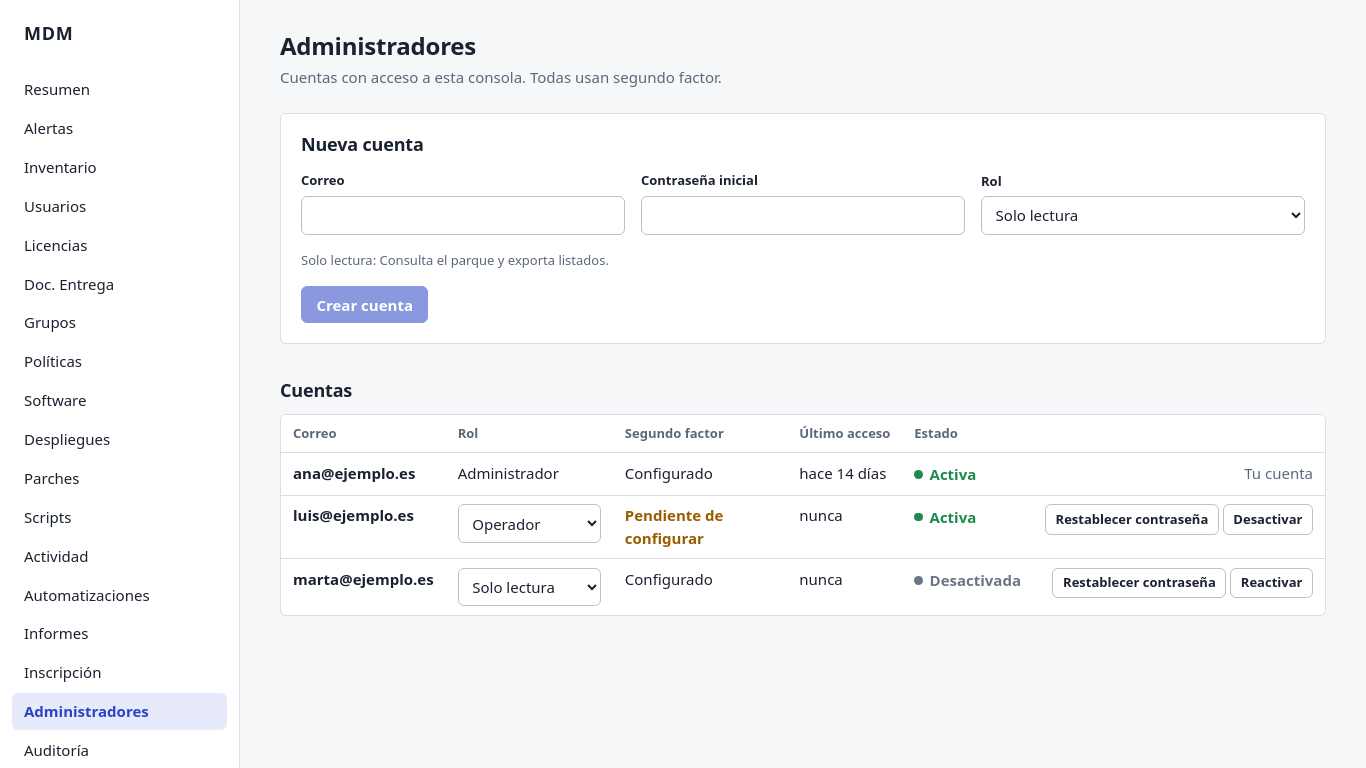
Test: Administradores › restablece la contraseña de otra cuenta
Step 1. Click the button with aria-label "Restablecer la contraseña de luis@ejemplo.es" → (1132, 520), box x1=1045 y1=504 x2=1219 y2=535
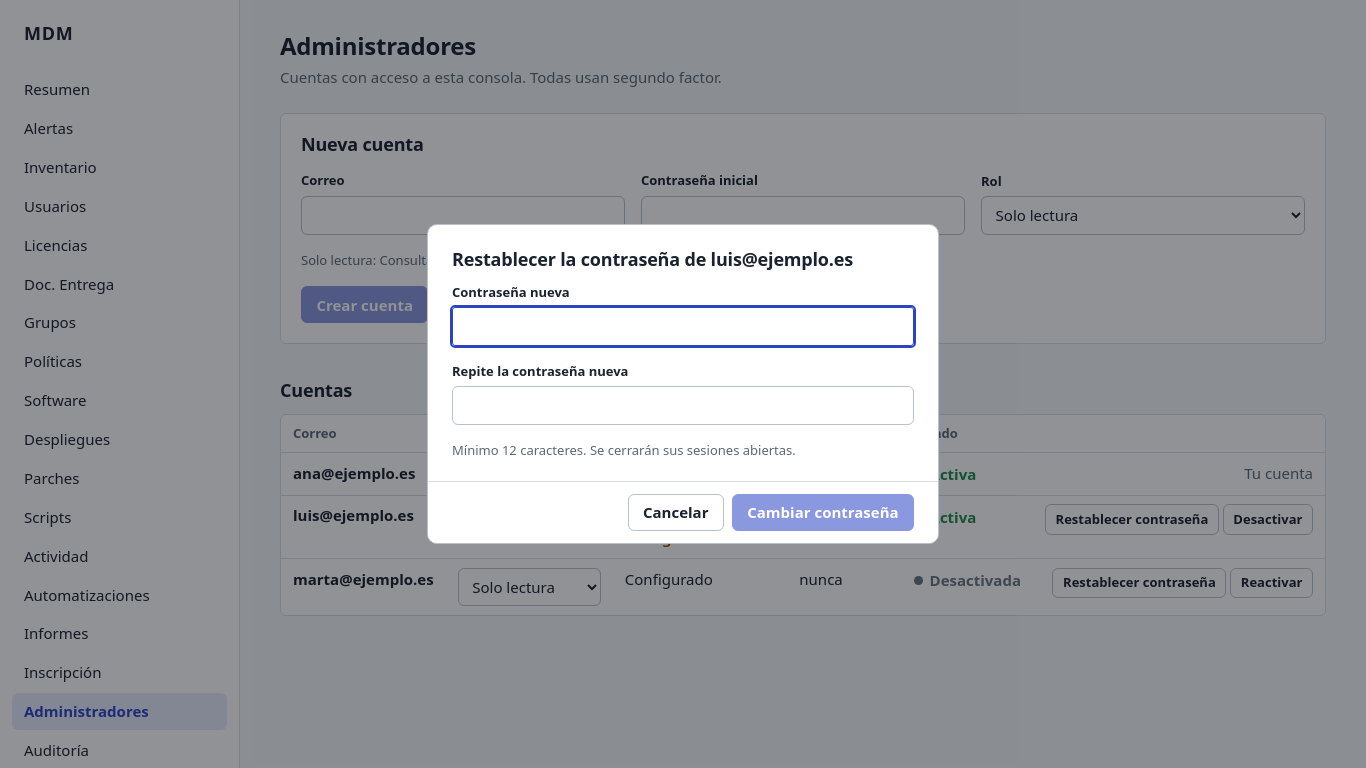
Step 2. Type "nueva-clave-larga-3" into the password field labelled "Contraseña nueva" → (683, 326), box x1=452 y1=307 x2=914 y2=346
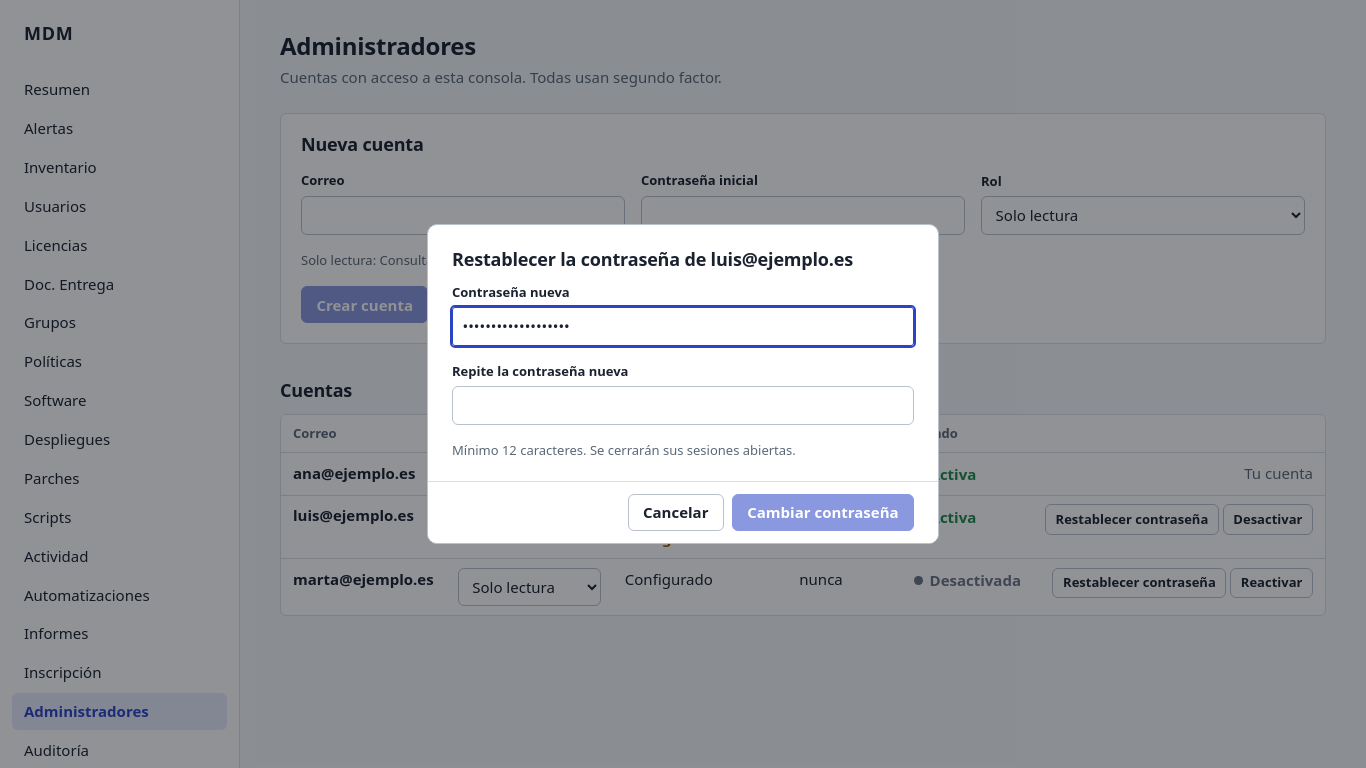
Step 3. Type "otra-distinta-xx-4" into the password field labelled "Repite la contraseña nueva" → (683, 406), box x1=452 y1=386 x2=914 y2=425
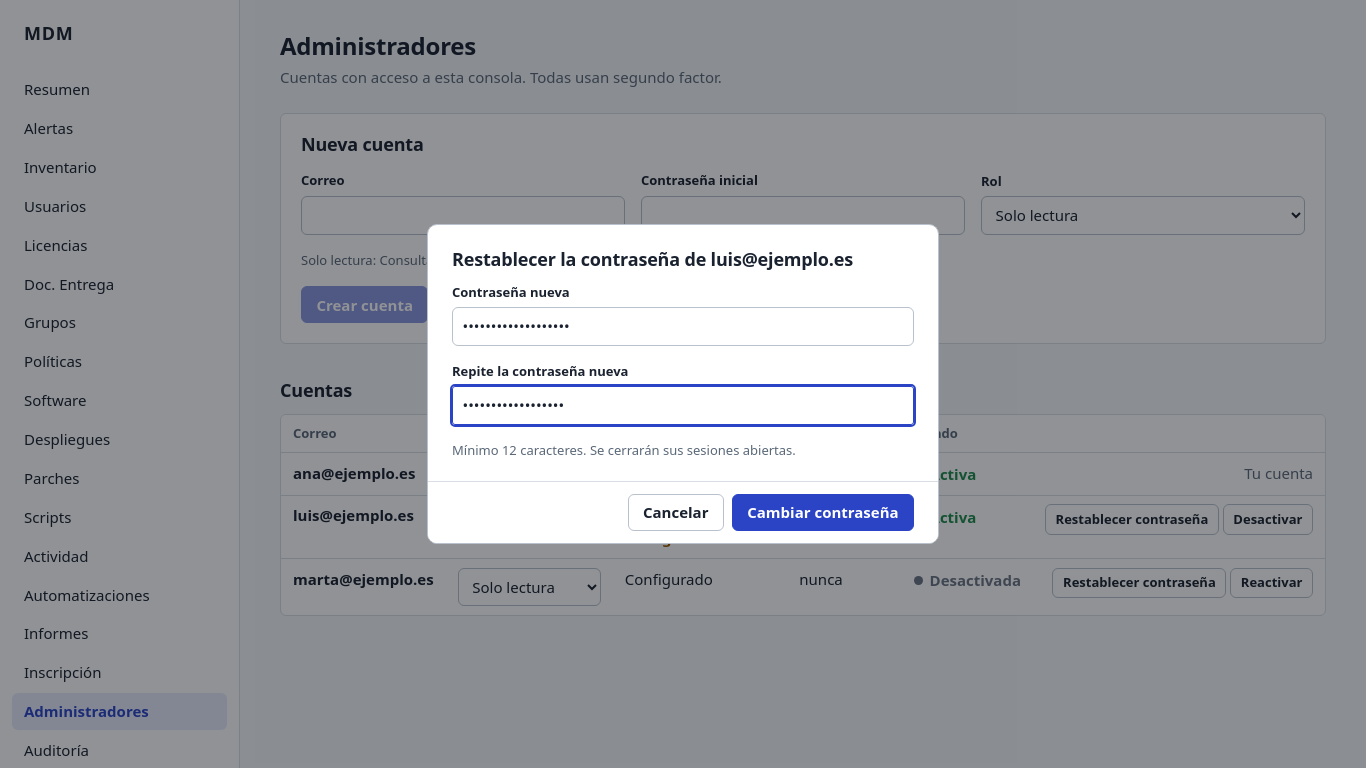
Step 4. Click the button "Cambiar contraseña" → (823, 512), box x1=732 y1=494 x2=914 y2=531
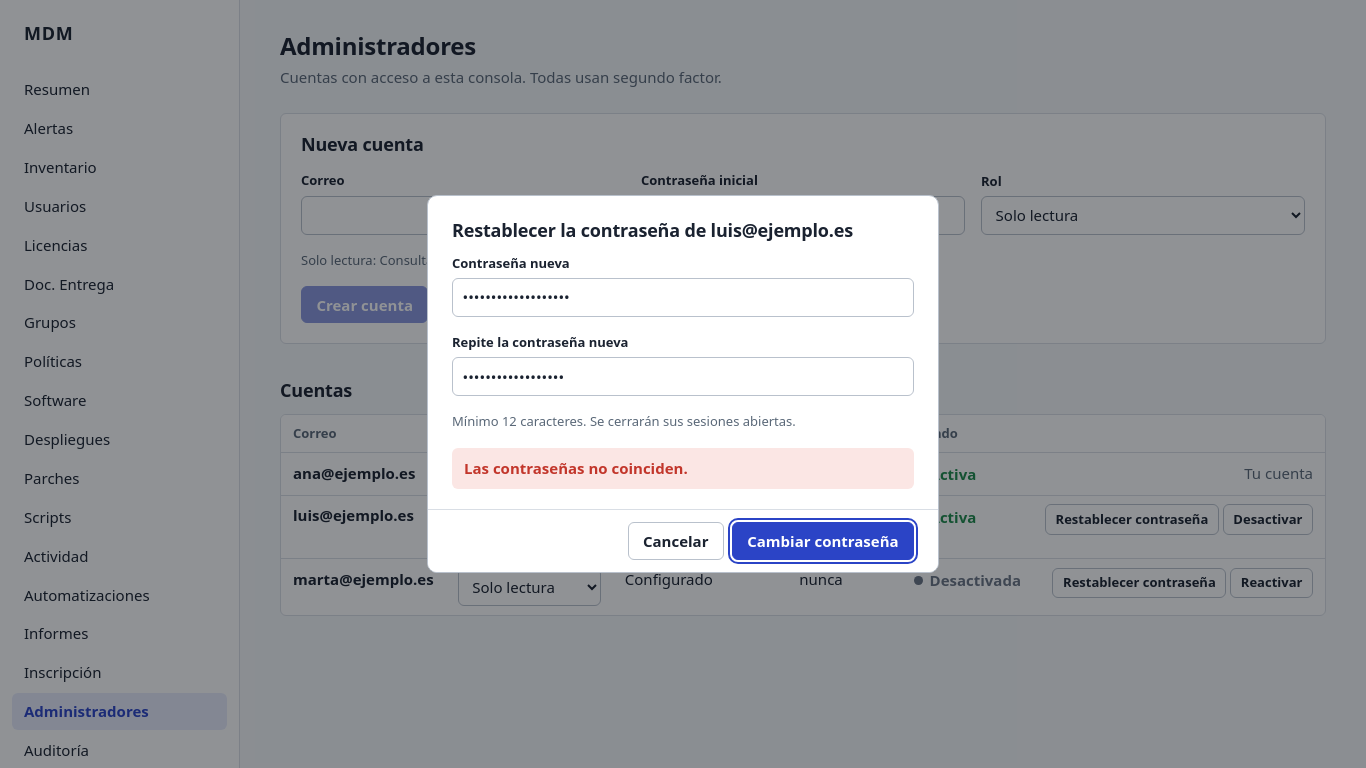
Result: the message reads "Las contraseñas no coinciden." at x1=464 y1=458 x2=688 y2=478
Step 5. Type "nueva-clave-larga-3" into the password field labelled "Repite la contraseña nueva" → (683, 377), box x1=452 y1=357 x2=914 y2=396
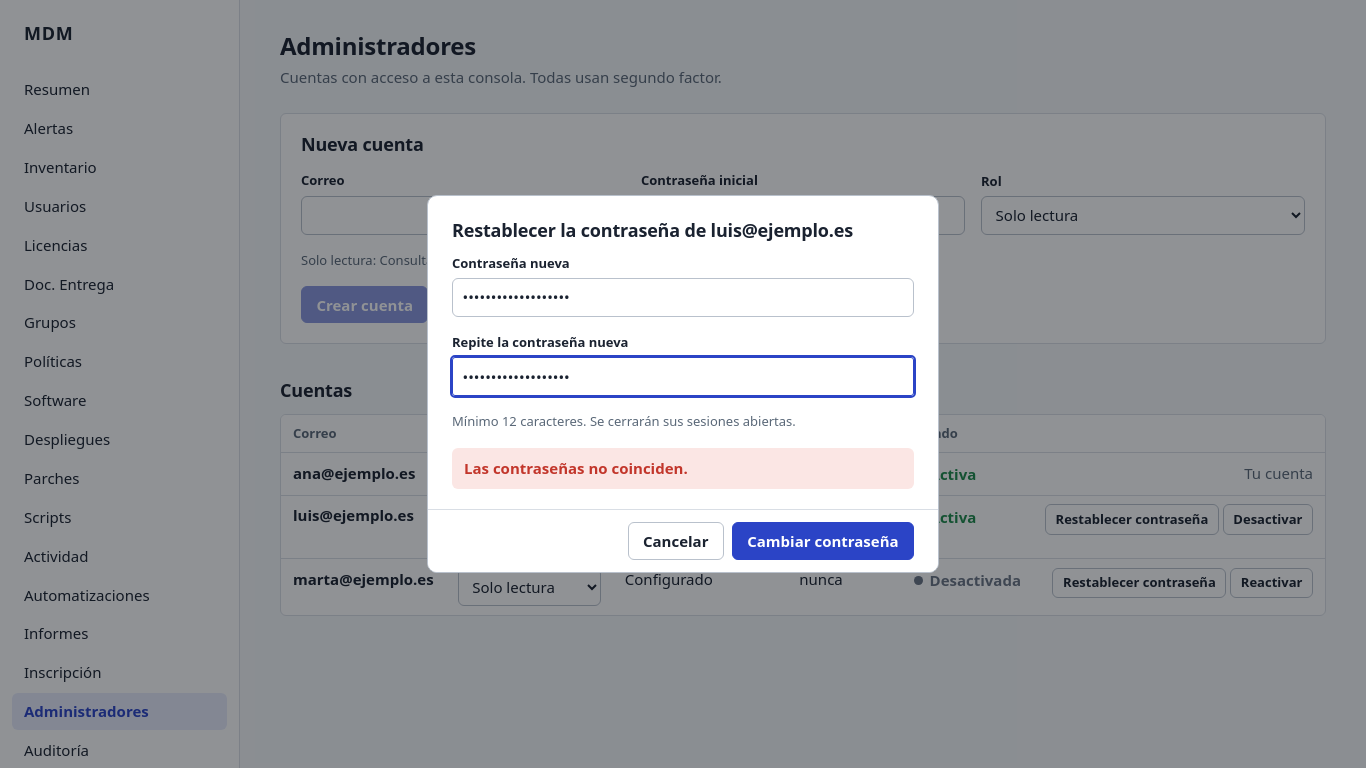
Step 6. Click the button "Cambiar contraseña" → (823, 541), box x1=732 y1=522 x2=914 y2=560
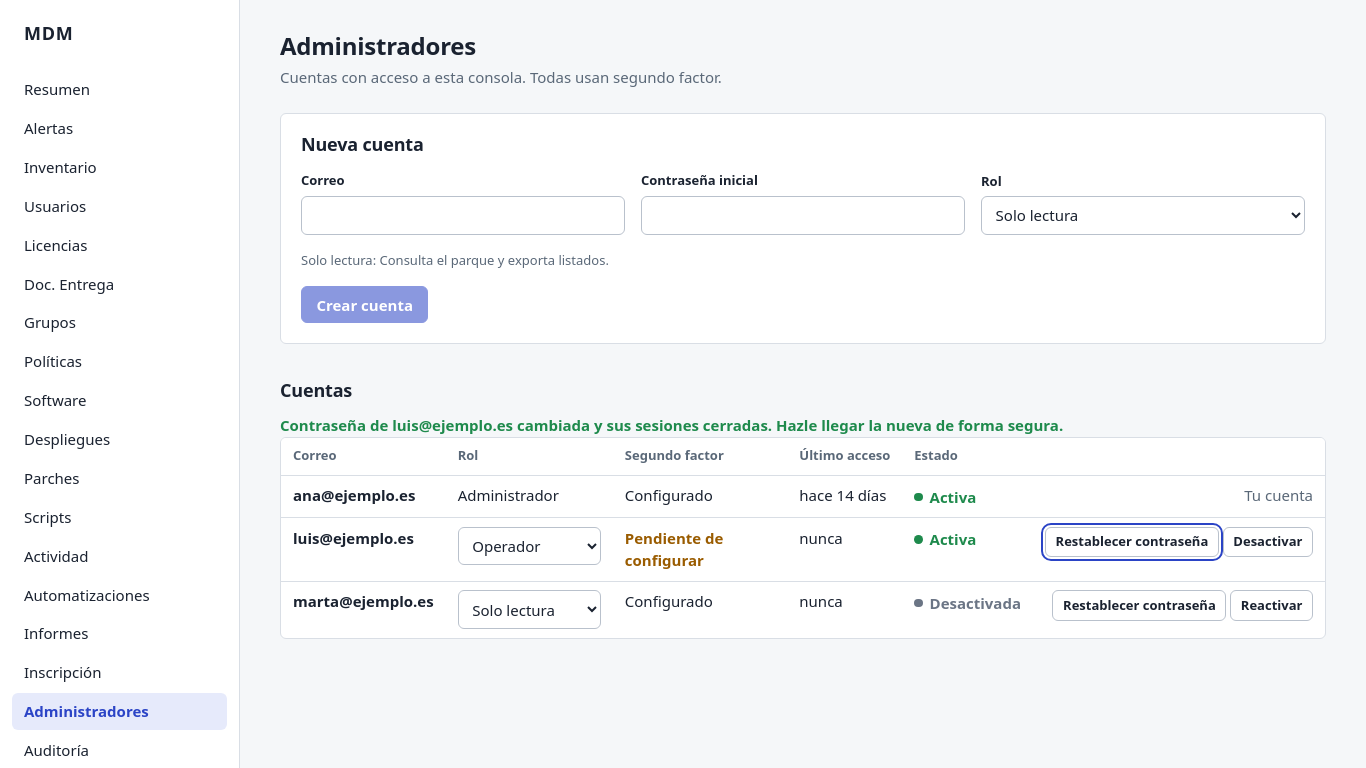
Result: the text "Contraseña de luis@ejemplo.es cambiada" is shown at x1=280 y1=415 x2=1063 y2=435
Result: the dialog is gone
